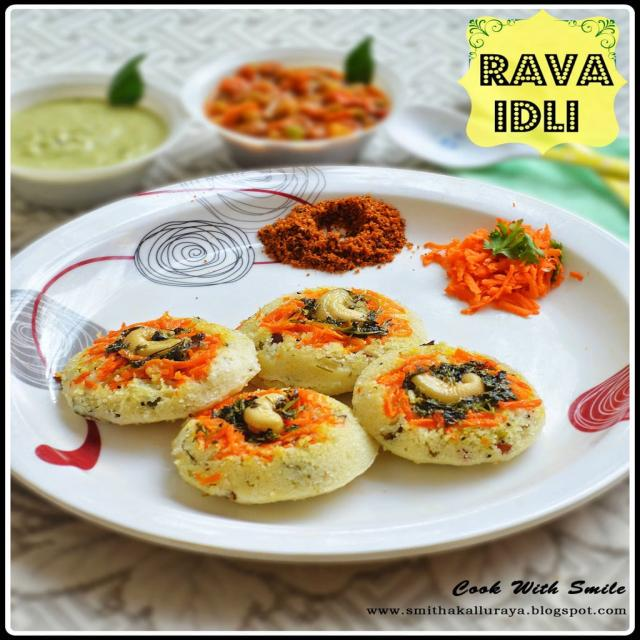rave idli: (167, 380, 380, 514), (350, 336, 555, 472), (50, 309, 261, 424), (250, 277, 417, 388)
